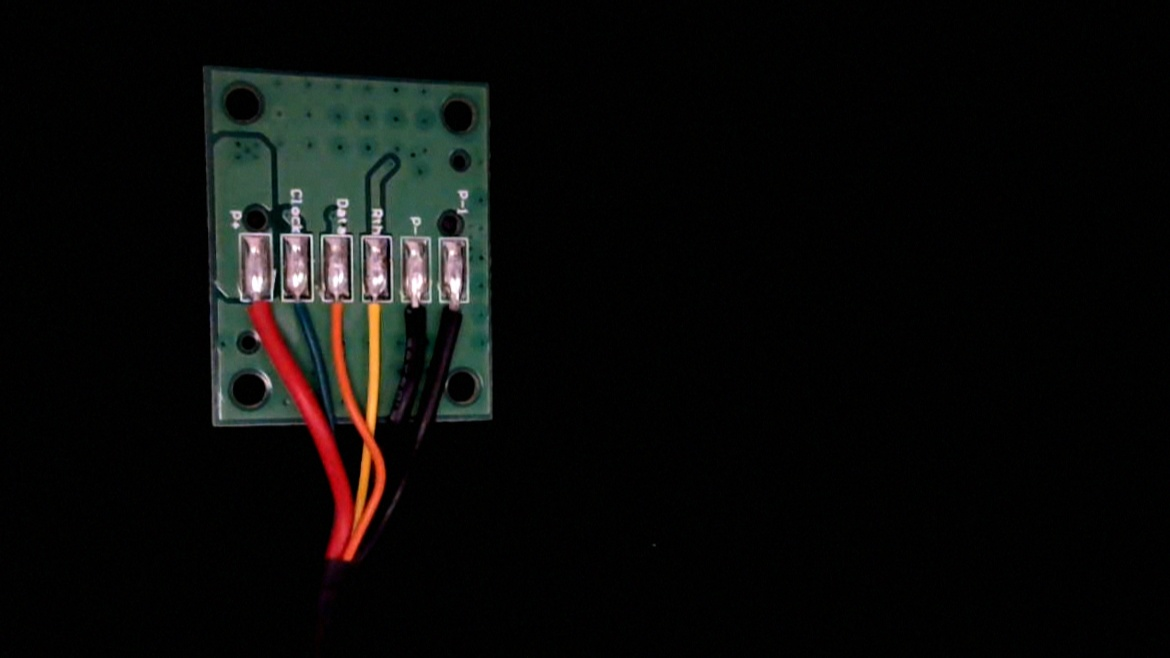Black: (398, 282, 432, 358)
Black1: (439, 284, 472, 354)
Green: (278, 279, 313, 352)
Orange: (323, 279, 355, 355)
Red: (239, 276, 274, 350)
Yellow: (359, 280, 393, 357)
